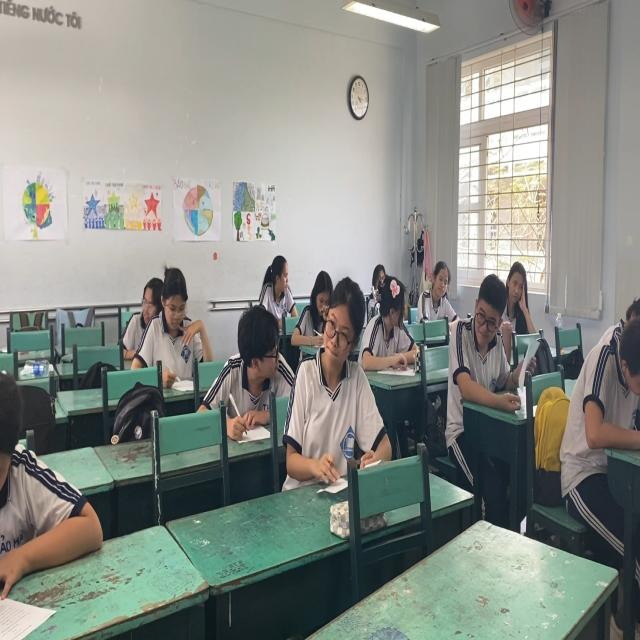cheating: (310, 280, 378, 473), (448, 272, 510, 408), (222, 297, 292, 414), (366, 268, 417, 362), (255, 248, 304, 317)
not_cheating: (144, 256, 208, 379), (500, 252, 535, 352), (424, 252, 452, 321)
